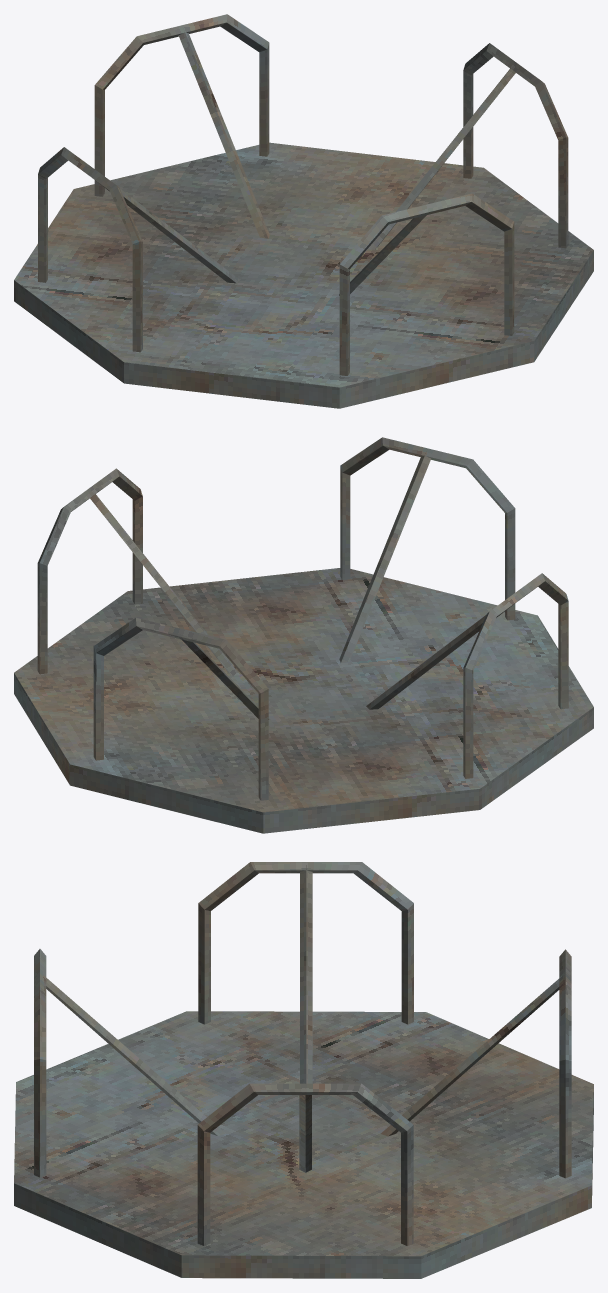
Rendered from roundabout.glb.
3 renders of one model, top to bottom at view 1: azimuth 30°, elevation 25°; view 2: azimuth 150°, elevation 25°; view 3: azimuth 270°, elevation 25°, orthographic. The views are drawn at different scales.
Parts seen in each view (by area): view 1: Cylinder; view 2: Cylinder; view 3: Cylinder.
Boxes of the visible parts, box(x1,y1,x2,y2) form: Cylinder: box(14, 14, 593, 408); Cylinder: box(14, 437, 593, 833); Cylinder: box(14, 862, 593, 1278).
Size of the model in its own units: 9.27 by 3.25 by 9.27.
2 materials, 2 textured.
